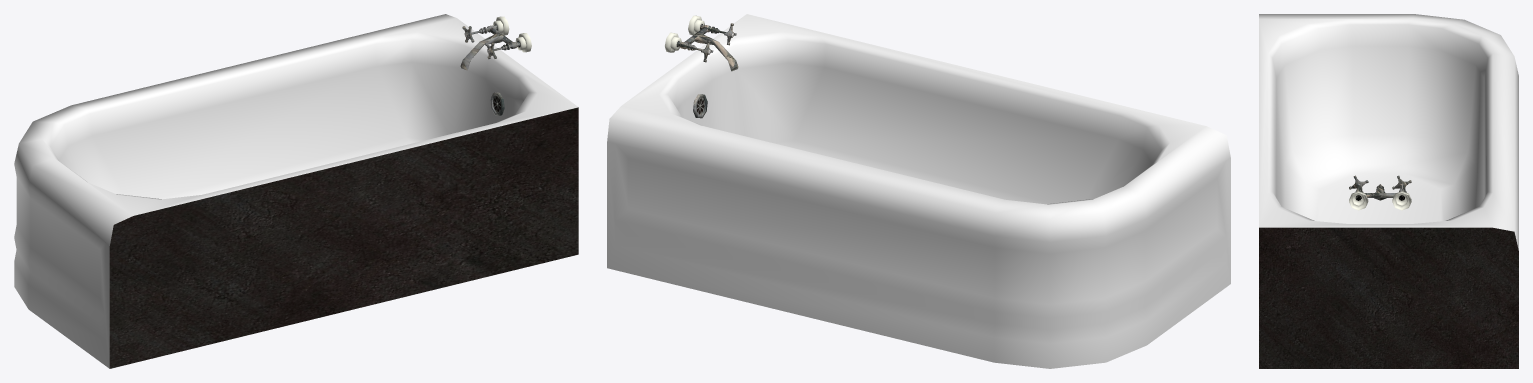
The model's file is Tub.dae.
3 views of the same model, side by side, from view 1: azimuth 30°, elevation 25°; view 2: azimuth 150°, elevation 25°; view 3: azimuth 270°, elevation 25° (orthographic). The views are drawn at different scales.
Visible parts, largest first — view 1: SketchUp (×2), Faucet_Part_1; view 2: SketchUp, Faucet_Part_1; view 3: SketchUp (×2), Faucet_Part_1.
Part boxes in pixels (box(x1,y1,x2,y2)): SketchUp (×2): box(14, 14, 578, 368); Faucet_Part_1: box(460, 27, 512, 70); SketchUp: box(607, 14, 1230, 368); Faucet_Part_1: box(684, 26, 738, 71); SketchUp (×2): box(1259, 14, 1518, 368); Faucet_Part_1: box(1364, 184, 1395, 200).
Bounding box in the file's own units: 60 × 30 × 22.45.
8 materials, 4 textured.
